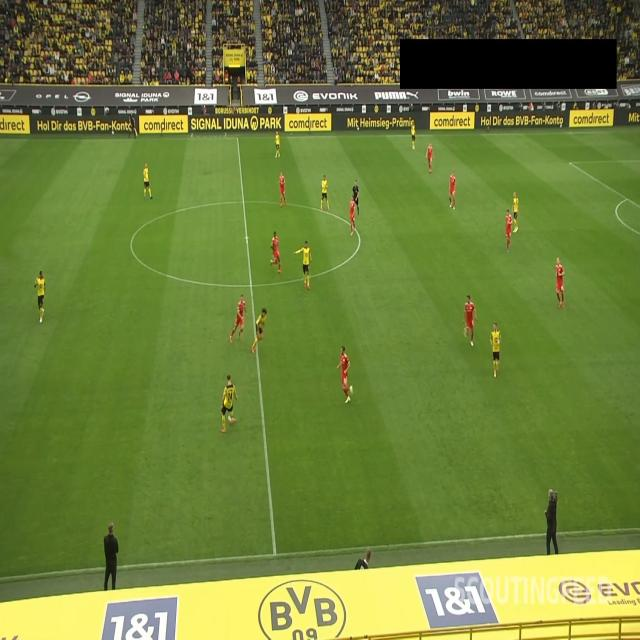ball: (227, 414, 233, 424)
